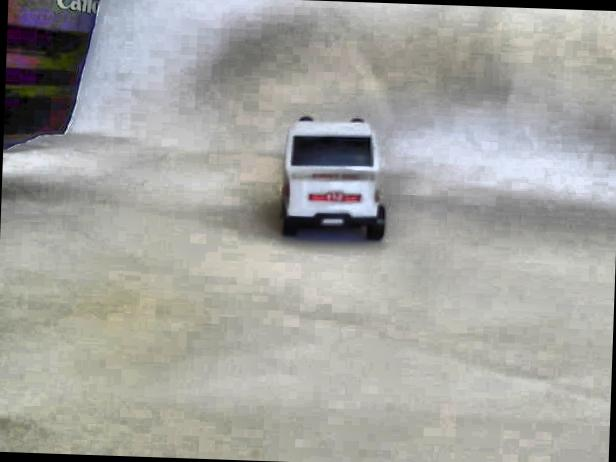ambulance: (277, 113, 388, 240)
